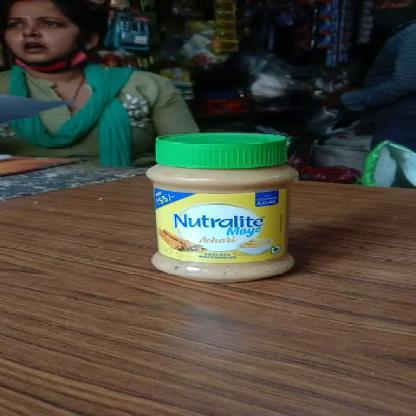Nutralite ACHARI MAYO 300g-275g-25g-: (150, 134, 299, 282)
